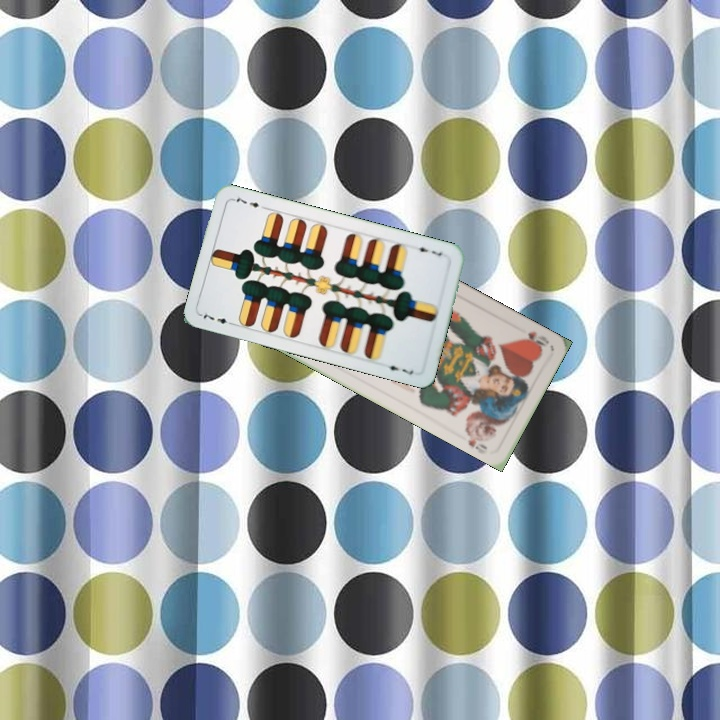E7: (197, 308, 237, 328), (411, 241, 445, 259)
HO: (518, 327, 551, 352)
